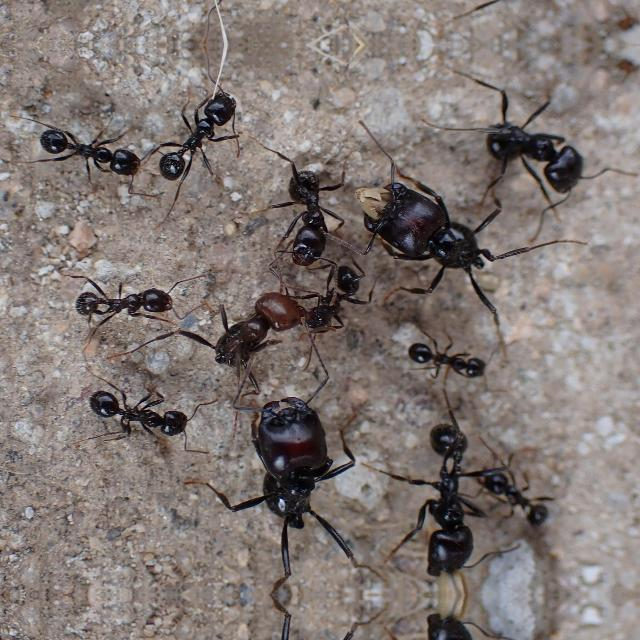Messor: (236, 382, 364, 580), (338, 165, 508, 299), (471, 88, 611, 210), (390, 396, 478, 582), (264, 142, 346, 276), (150, 83, 246, 193), (208, 275, 302, 377), (396, 327, 500, 399), (71, 382, 193, 441), (471, 446, 554, 530), (34, 116, 142, 180), (67, 280, 181, 332), (297, 262, 363, 340)
